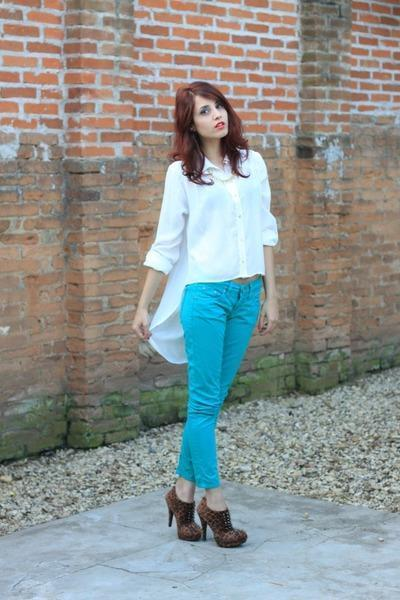pants: (175, 280, 261, 488)
shirt: (144, 144, 277, 363)
shoe: (166, 492, 246, 547)
